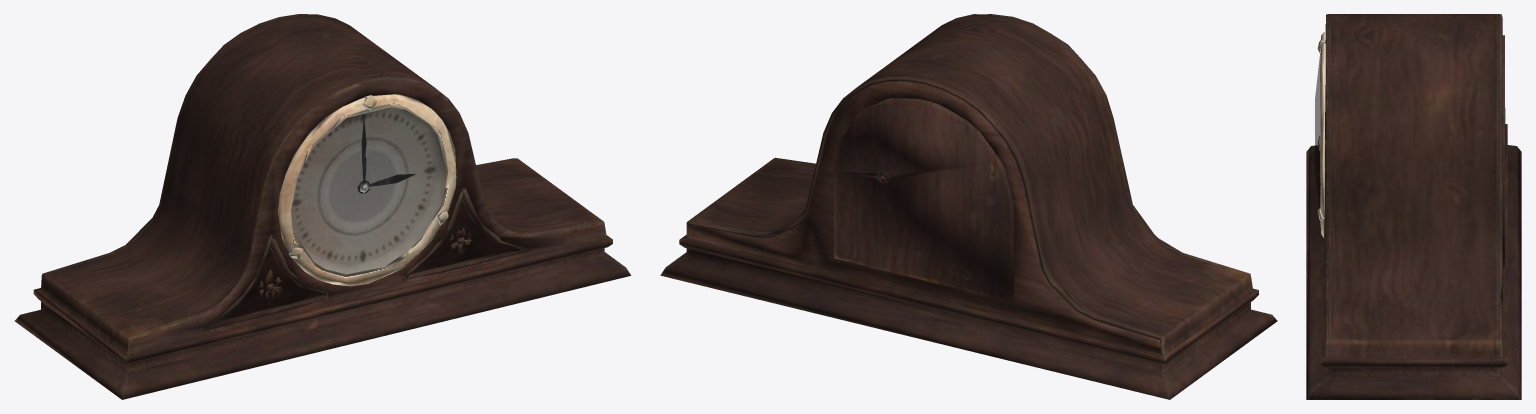
Rendered from mantel_clock_01.glb.
3 views of the same model, side by side, from view 1: azimuth 30°, elevation 25°; view 2: azimuth 150°, elevation 25°; view 3: azimuth 270°, elevation 25° (orthographic).
Visible parts, largest first — view 1: mantel_clock_01, mantel_clock_01_glass; view 2: mantel_clock_01; view 3: mantel_clock_01, mantel_clock_01_glass.
Part boxes in pixels (x1,y1,x2,y2): mantel_clock_01: (14,14,630,399); mantel_clock_01_glass: (291,105,447,275); mantel_clock_01: (660,14,1277,399); mantel_clock_01: (1306,14,1521,399); mantel_clock_01_glass: (1315,50,1320,208).
Bounding box in the file's own units: 0.3418 × 0.1604 × 0.1252.
2 materials, 2 textured.
